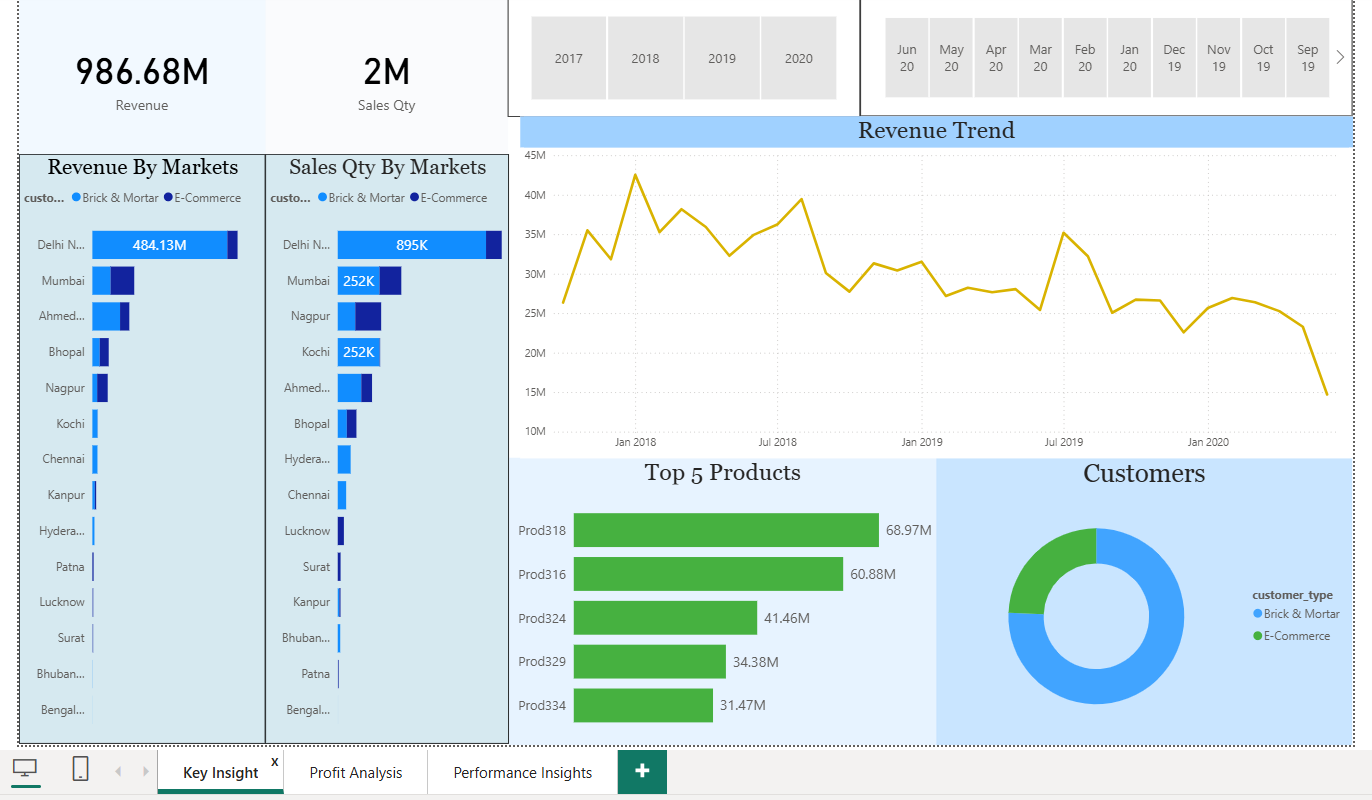

This screenshot's page, from the dashboard's own definition file:
{"tool":"powerbi","page":{"name":"Key Insight","canvas":[1520,850],"ordinal":0},"visuals":[{"type":"card","fields":{"Values":["base measures.Revenue"]},"box":[0,0,280.5,176.8],"z":0},{"type":"card","fields":{"Values":["base measures.Sales Qty"]},"box":[280.5,0,277.1,176.8],"z":1000},{"type":"barChart","title":"Revenue By Markets","fields":{"Y":["base measures.Revenue"],"Category":["sales markets.markets_name"],"Series":["sales customers.customer_type"]},"box":[0,177.2,261.4,671.9],"z":2000},{"type":"barChart","title":"Sales Qty By Markets","fields":{"Y":["base measures.Sales Qty"],"Category":["sales markets.markets_name"],"Series":["sales customers.customer_type"]},"box":[261.4,177.2,296.5,671.9],"z":3000},{"type":"slicer","fields":{"Values":["sales date.year"]},"box":[557.6,0,401.2,134.3],"z":4000},{"type":"slicer","fields":{"Values":["sales date.cy_date"]},"box":[958.8,0,561,134.3],"z":5000},{"type":"donutChart","title":"Customers","fields":{"Category":["sales customers.customer_type"],"Y":["base measures.Revenue"]},"box":[1045.6,522.8,473.7,328.1],"z":6000},{"type":"barChart","title":"Top 5 Products","fields":{"Y":["base measures.Revenue"],"Category":["sales transactions.product_code"]},"box":[557.9,522.8,487.7,328.1],"z":7000},{"type":"lineChart","title":"Revenue Trend","fields":{"Y":["base measures.Revenue"],"Category":["sales date.cy_date"]},"box":[571.2,134.3,948.6,389.3],"z":8000}]}

Visuals, with their boxes on the page's 1520x850 design canvas (x1, y1, x2, y2). These are canvas units, not pixel positions in the 1372x800 screenshot, which may show the page scaled, cropped or inside an application window:
card - base measures.Revenue: {"x1": 0, "y1": 0, "x2": 280, "y2": 177}
card - base measures.Sales Qty: {"x1": 280, "y1": 0, "x2": 558, "y2": 177}
"Revenue By Markets" barChart: {"x1": 0, "y1": 177, "x2": 261, "y2": 849}
"Sales Qty By Markets" barChart: {"x1": 261, "y1": 177, "x2": 558, "y2": 849}
slicer - sales date.year: {"x1": 558, "y1": 0, "x2": 959, "y2": 134}
slicer - sales date.cy_date: {"x1": 959, "y1": 0, "x2": 1520, "y2": 134}
"Customers" donutChart: {"x1": 1046, "y1": 523, "x2": 1519, "y2": 851}
"Top 5 Products" barChart: {"x1": 558, "y1": 523, "x2": 1046, "y2": 851}
"Revenue Trend" lineChart: {"x1": 571, "y1": 134, "x2": 1520, "y2": 524}
